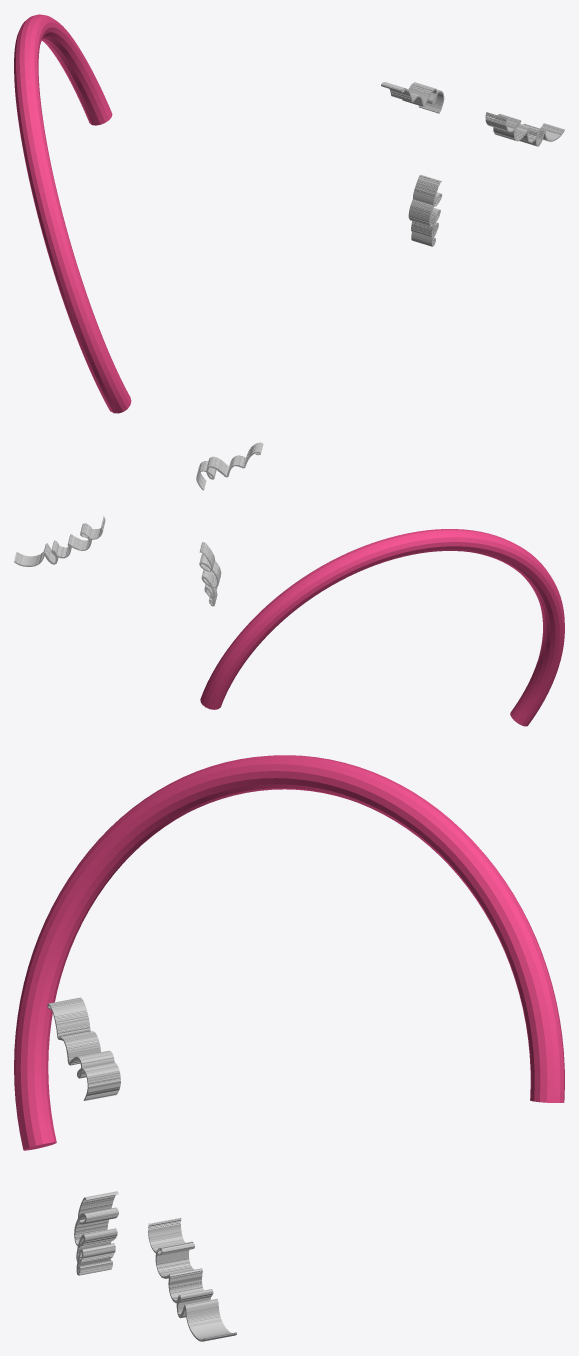
3 views of the same model, one above another, from view 1: azimuth 30°, elevation 25°; view 2: azimuth 150°, elevation 25°; view 3: azimuth 270°, elevation 25° (orthographic). The views are drawn at different scales.
Visible parts, largest first — view 1: Torus 15, Ebene 13; view 2: Torus 15, Ebene 13; view 3: Torus 15, Ebene 13.
Boxes of the visible parts, left/top/right/bottom form: Torus 15: left=14, top=14, right=131, bottom=413; Ebene 13: left=381, top=82, right=564, bottom=246; Torus 15: left=200, top=529, right=564, bottom=726; Ebene 13: left=14, top=442, right=263, bottom=606; Torus 15: left=14, top=755, right=564, bottom=1150; Ebene 13: left=47, top=997, right=236, bottom=1341.
Bounding box in the file's own units: 1.55 × 0.7619 × 0.9476.
